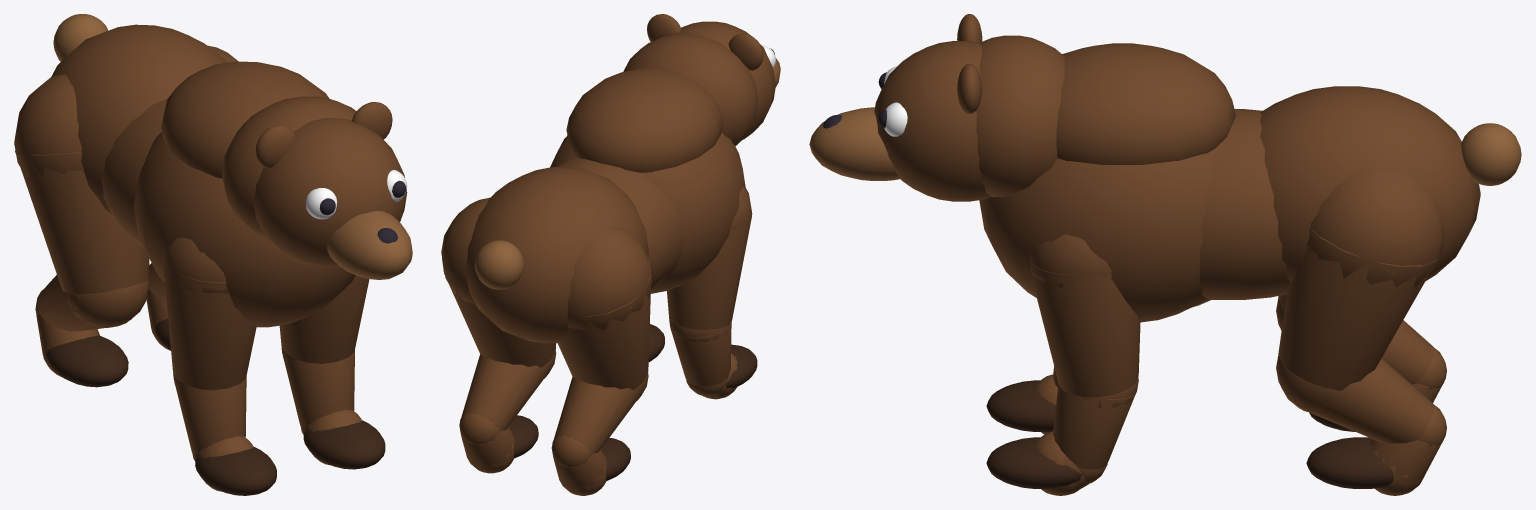
File: bear.glb
3 views of the same model, side by side, from view 1: azimuth 30°, elevation 25°; view 2: azimuth 150°, elevation 25°; view 3: azimuth 270°, elevation 25° (orthographic). The views are drawn at different scales.
Parts seen in each view (by area): view 1: bear; view 2: bear; view 3: bear.
Boxes of the visible parts, x1,y1,x2,y2 form: bear: (14,14,412,495); bear: (441,14,780,495); bear: (809,14,1521,495).
Size of the model in its own units: 1.02 by 1.66 by 2.53.
